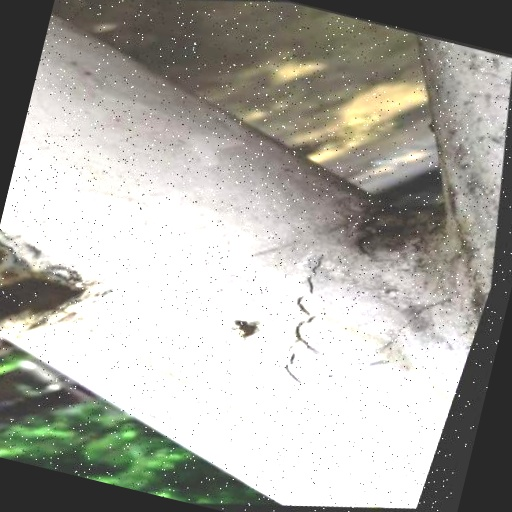crack: (238, 234, 369, 416)
